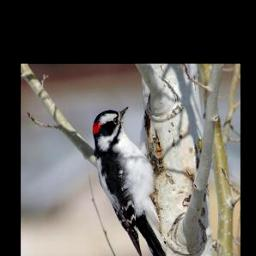Woodpecker: (94, 104, 171, 256)
